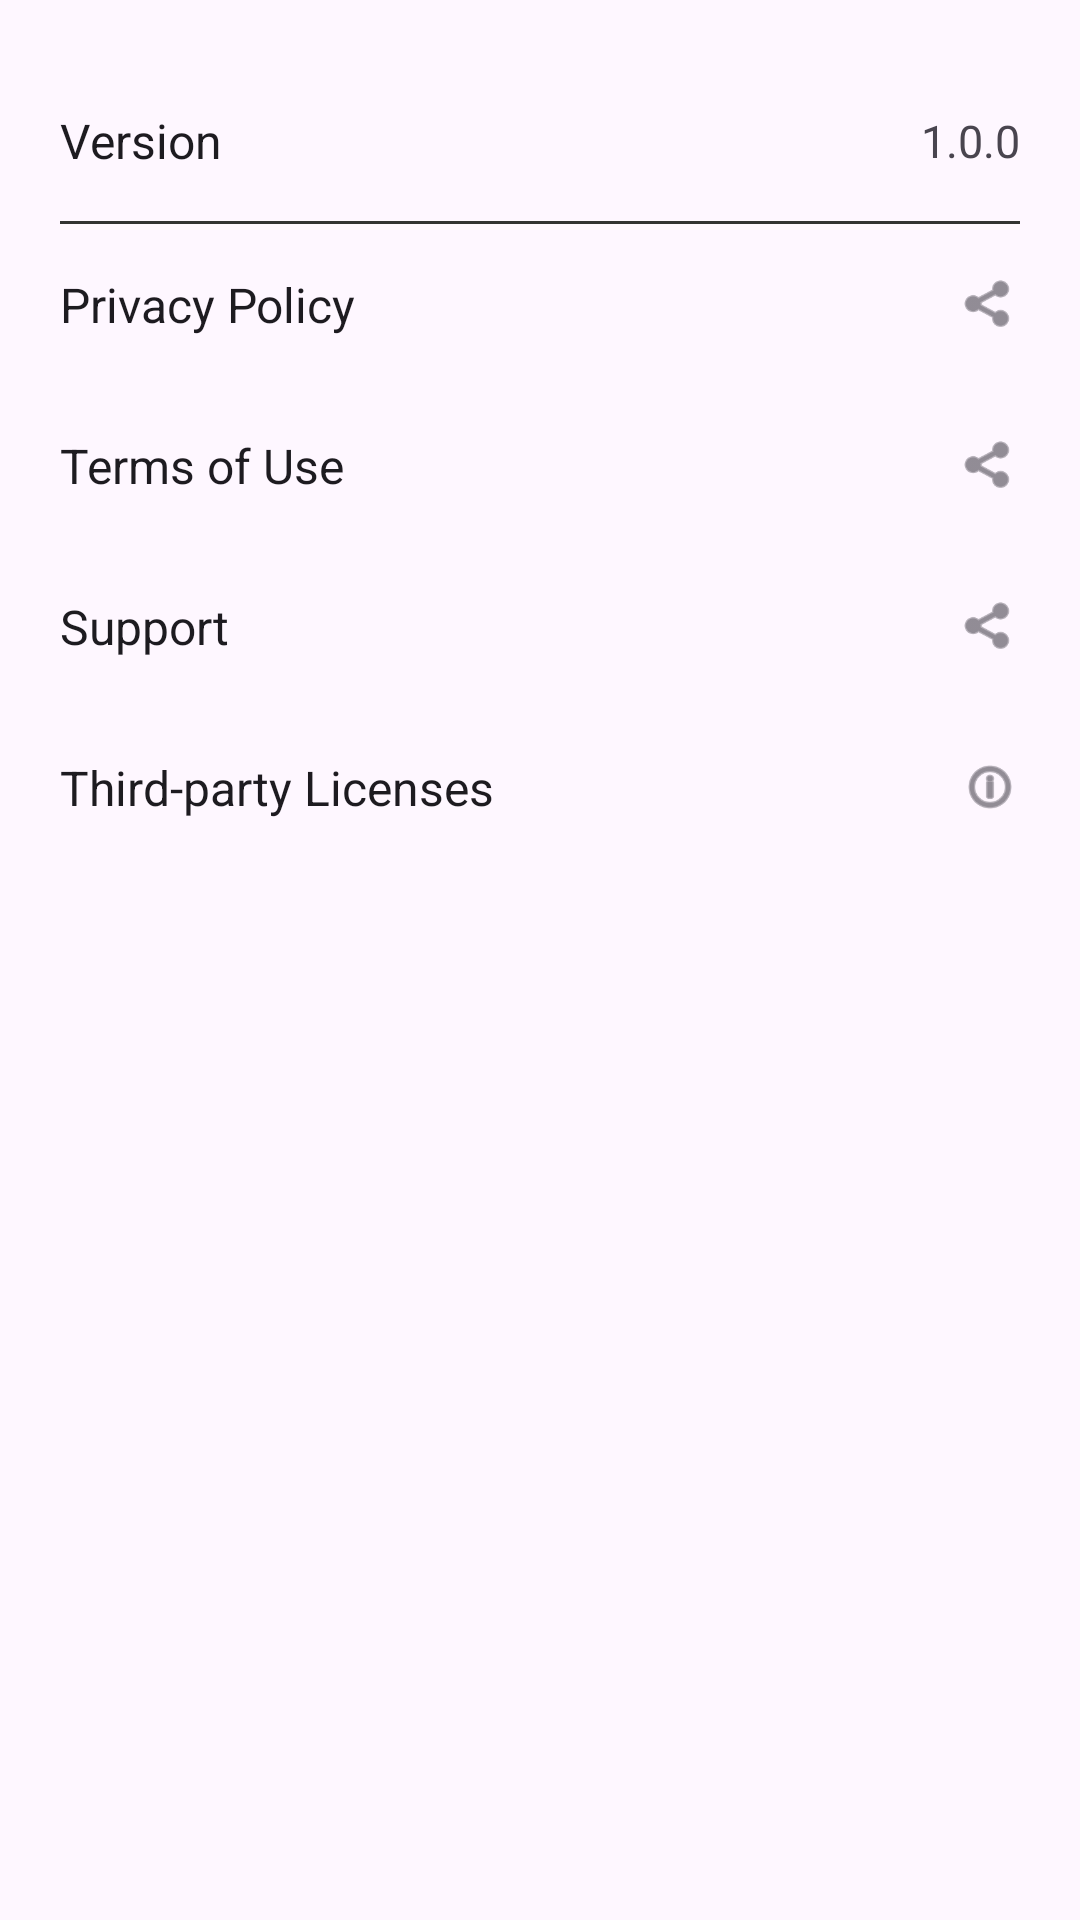

Named icons in this screenshot (1080 × 1920) and their bounding boxes, (x1, y1, x2, y2):
info details: (968, 765, 1012, 809)
share: (964, 280, 1009, 327), (964, 441, 1009, 488), (964, 602, 1009, 649)
